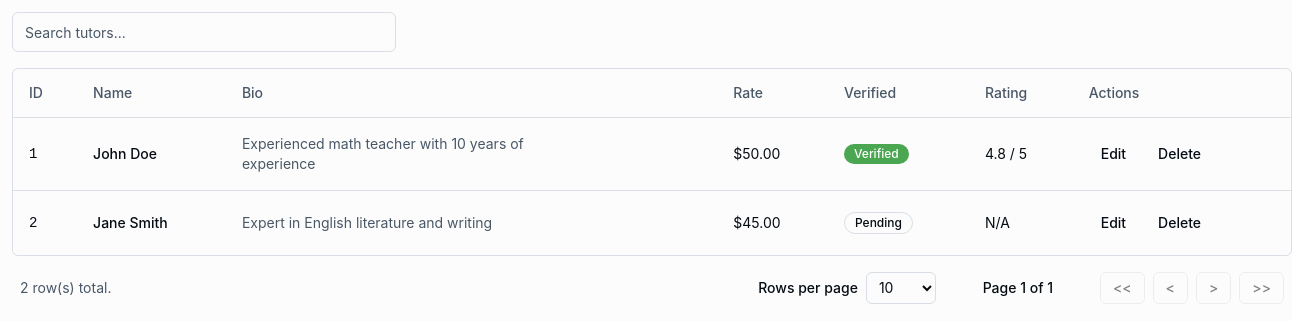
it: TutorsTable › sorting functionality › shows sort indicators on headers
The width and height of the screenshot is (1292, 321).
Click the text "Name" at (113, 92), box x1=93 y1=84 x2=132 y2=101
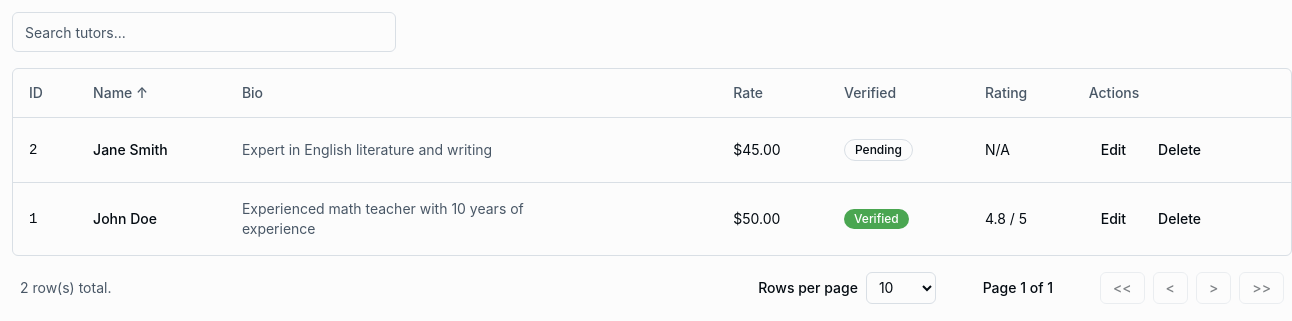
Expected: the column heading "Name" shows "↑", x1=132 y1=84 x2=148 y2=101
